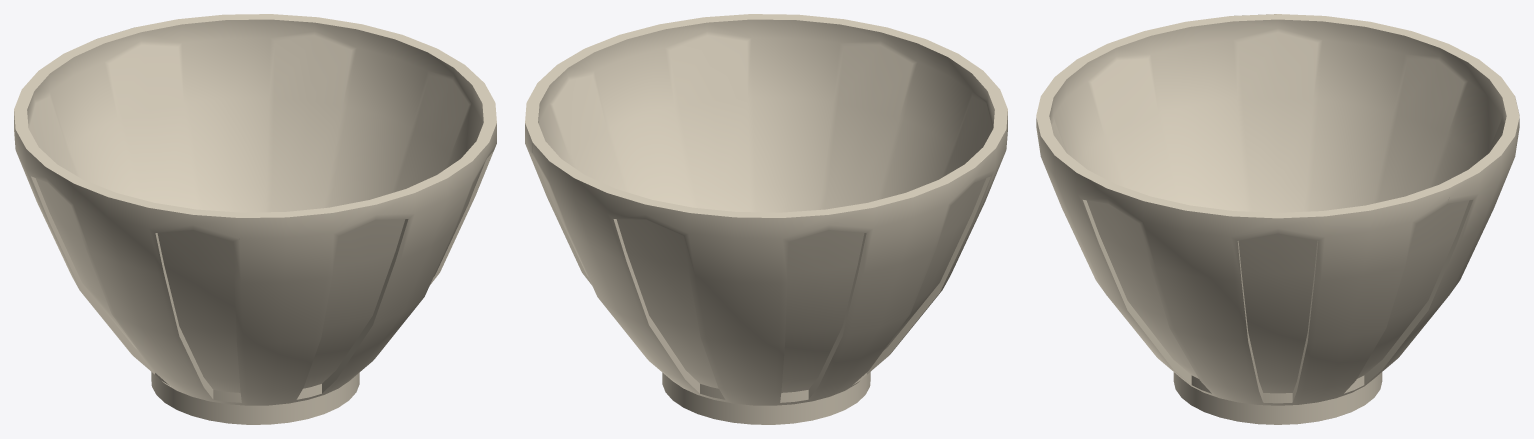
File: TeaCup Empty.glb
3 renders of one model, left to right at view 1: azimuth 30°, elevation 25°; view 2: azimuth 150°, elevation 25°; view 3: azimuth 270°, elevation 25°, orthographic.
Parts seen in each view (by area): view 1: TeaCup_Empty; view 2: TeaCup_Empty; view 3: TeaCup_Empty.
Part boxes in pixels (bbox=[...]): TeaCup_Empty: bbox=[14, 14, 496, 424]; TeaCup_Empty: bbox=[525, 14, 1007, 424]; TeaCup_Empty: bbox=[1036, 14, 1519, 424].
Bounding box in the file's own units: 2.21 × 1.34 × 2.21.
1 material, 1 textured.
